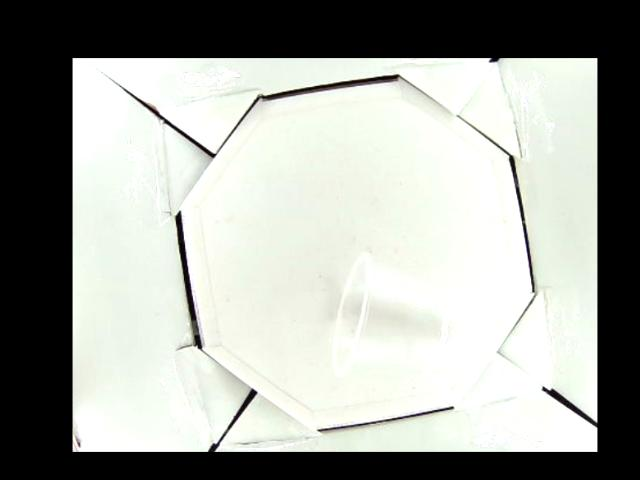Cup: (332, 250, 499, 376)
